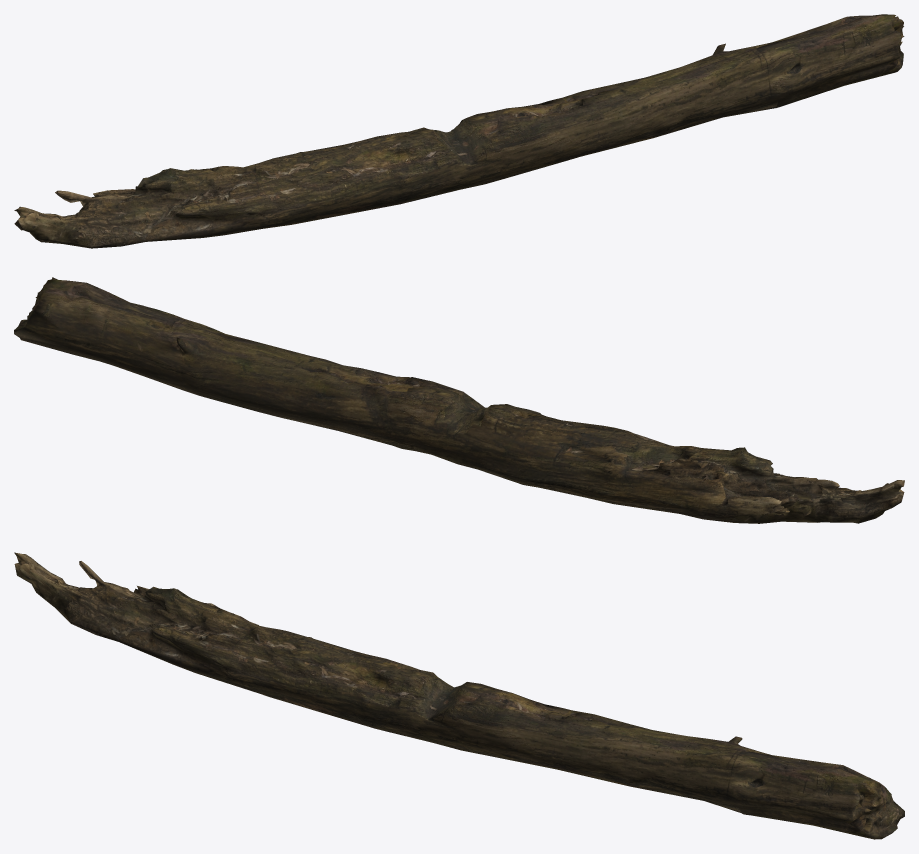
Rendered from dead_tree_trunk.glb.
3 renders of one model, top to bottom at view 1: azimuth 30°, elevation 25°; view 2: azimuth 150°, elevation 25°; view 3: azimuth 330°, elevation 25°, orthographic.
Visible parts, largest first — view 1: dead_tree_trunk; view 2: dead_tree_trunk; view 3: dead_tree_trunk.
Part boxes in pixels (x1=…): dead_tree_trunk: x1=14, y1=14, x2=904, y2=248; dead_tree_trunk: x1=14, y1=277, x2=904, y2=523; dead_tree_trunk: x1=14, y1=552, x2=904, y2=839.
Bounding box in the file's own units: 3.05 × 0.2869 × 0.2763.
Materials: 1 (1 with a texture image).
